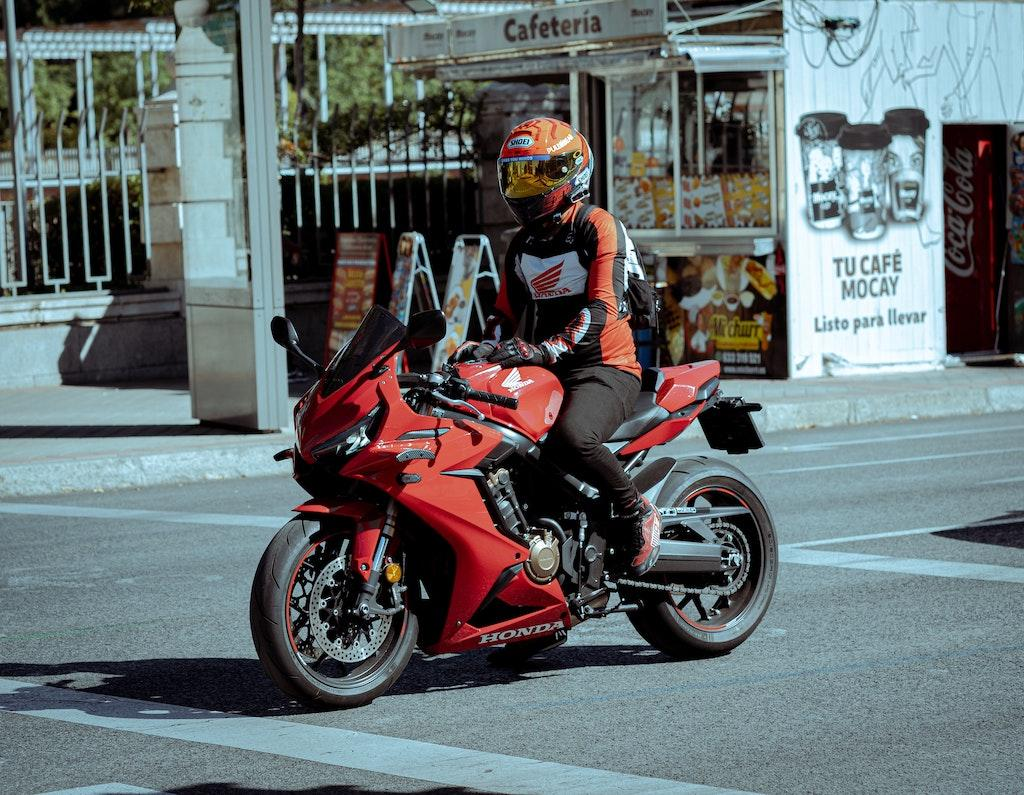helmet: (496, 116, 596, 236)
